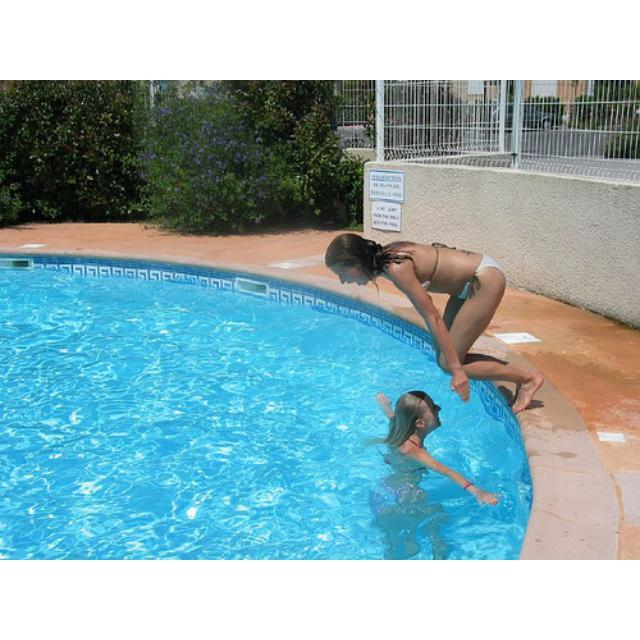human: (326, 230, 541, 405), (368, 384, 501, 506)
